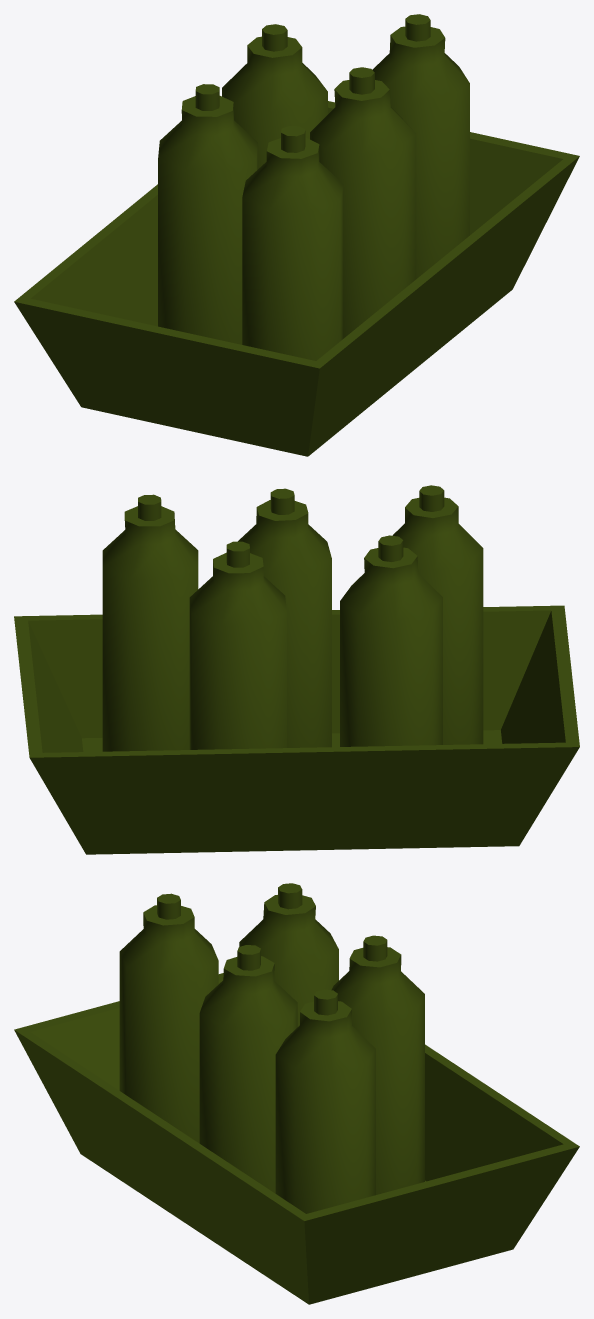
3 renders of one model, top to bottom at view 1: azimuth 30°, elevation 25°; view 2: azimuth 150°, elevation 25°; view 3: azimuth 270°, elevation 25°, orthographic. The views are drawn at different scales.
Visible parts, largest first — view 1: Box3; view 2: Box3; view 3: Box3.
Boxes of the visible parts, box(x1,y1,x2,y2) form: Box3: box(14, 14, 579, 456); Box3: box(14, 485, 579, 854); Box3: box(14, 883, 579, 1304).
Bounding box in the file's own units: 0.2083 × 0.0987 × 0.1872.
